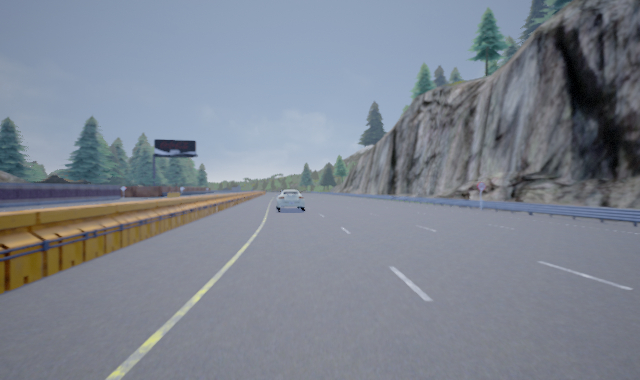traffic_sign: (476, 180, 488, 192)
vehicle: (276, 189, 306, 212)
